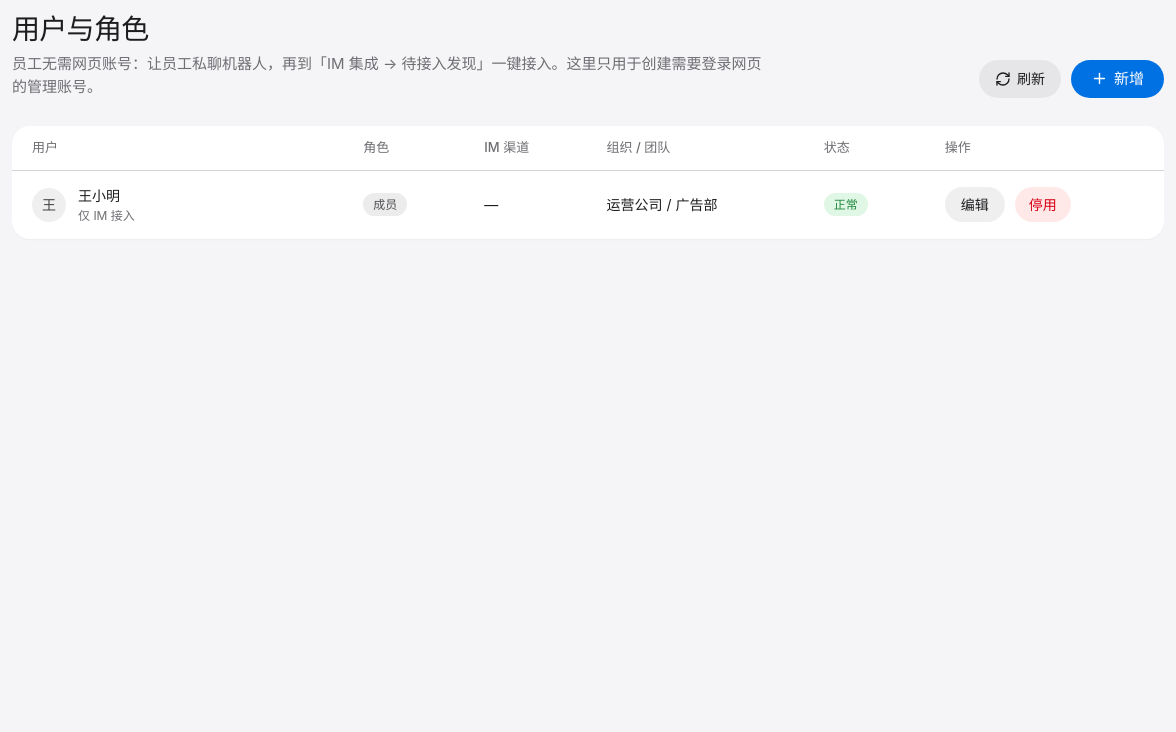
Test: shows the server refusal instead of pretending a change happened
Click the button "停用".
click(1043, 204)  # box left=1015, top=187, right=1071, bottom=222
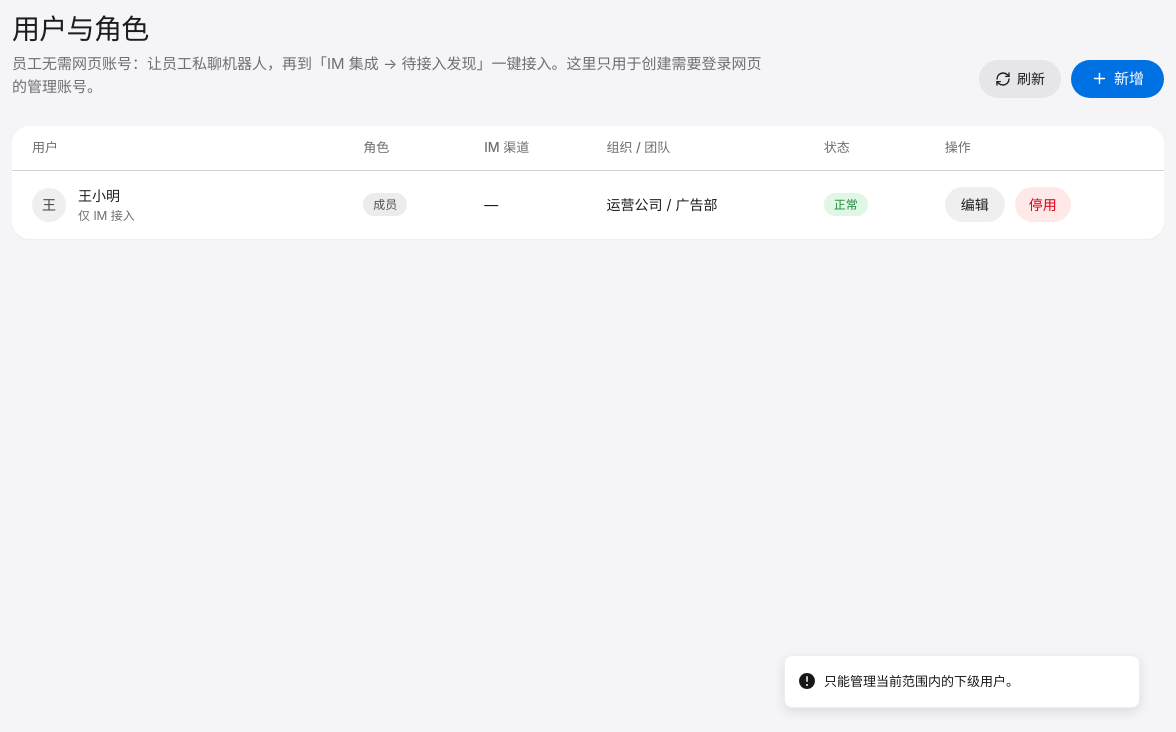
Now the text "只能管理当前范围内的下级用户。" is shown, box left=824, top=672, right=1019, bottom=691
